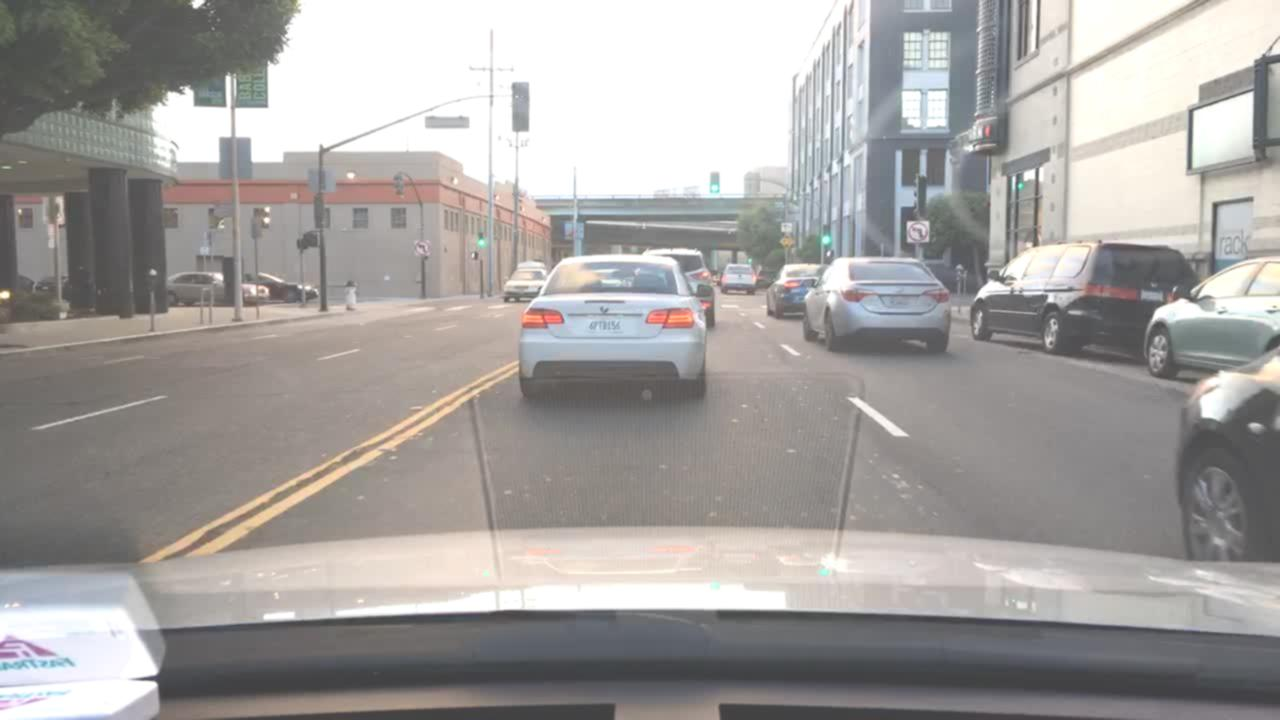bmw: (597, 303, 612, 316)
